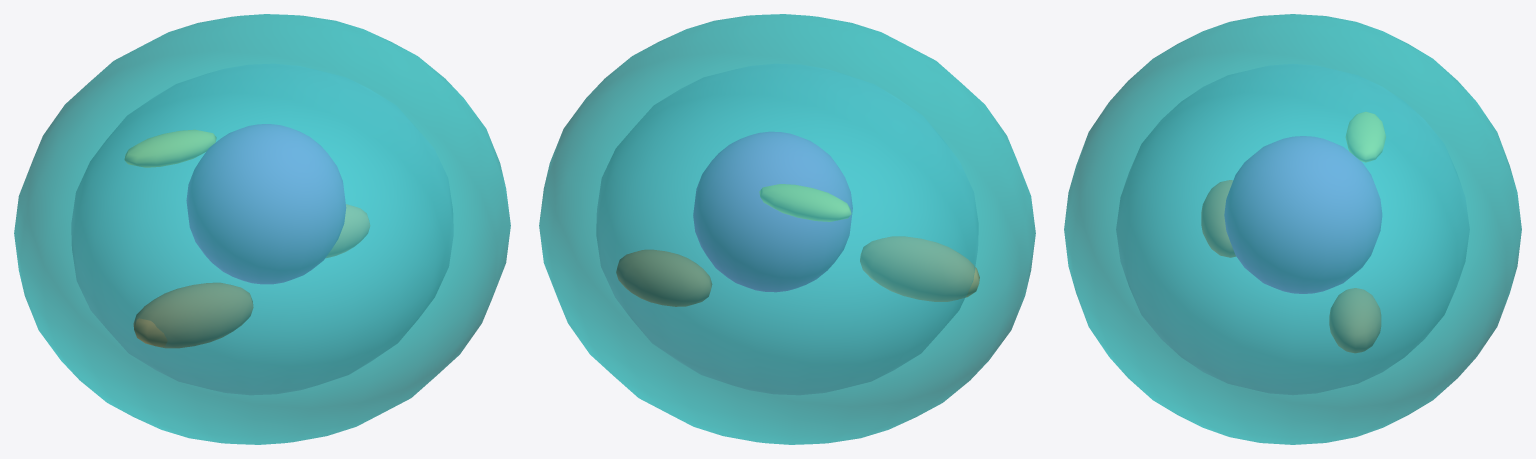
File: animal_cell.glb
3 renders of one model, left to right at view 1: azimuth 30°, elevation 25°; view 2: azimuth 150°, elevation 25°; view 3: azimuth 270°, elevation 25°, orthographic.
Parts seen in each view (by area): view 1: Membran_Sel, Sitoplasma, Nukleus, Mitokondria_1, Jasad_Golgi, Mitokondria_2; view 2: Membran_Sel, Sitoplasma, Nukleus, Mitokondria_1, Mitokondria_2, Jasad_Golgi; view 3: Membran_Sel, Sitoplasma, Nukleus, Mitokondria_2, Mitokondria_1, Jasad_Golgi.
Boxes of the visible parts, box(x1,y1,x2,y2) form: Membran_Sel: box(14, 14, 510, 444); Sitoplasma: box(71, 64, 453, 394); Nukleus: box(186, 124, 345, 283); Mitokondria_1: box(133, 283, 253, 347); Jasad_Golgi: box(124, 130, 216, 167); Mitokondria_2: box(326, 204, 369, 257); Membran_Sel: box(539, 14, 1035, 444); Sitoplasma: box(596, 64, 978, 394); Nukleus: box(693, 132, 852, 291); Mitokondria_1: box(860, 236, 979, 301); Mitokondria_2: box(616, 250, 711, 306); Jasad_Golgi: box(759, 184, 851, 221); Membran_Sel: box(1064, 14, 1521, 444); Sitoplasma: box(1116, 64, 1469, 394); Nukleus: box(1224, 136, 1381, 293); Mitokondria_2: box(1329, 288, 1380, 352); Mitokondria_1: box(1201, 180, 1235, 257); Jasad_Golgi: box(1345, 112, 1385, 162).
Bounding box in the file's own units: 2.4 × 2 × 2.2.
